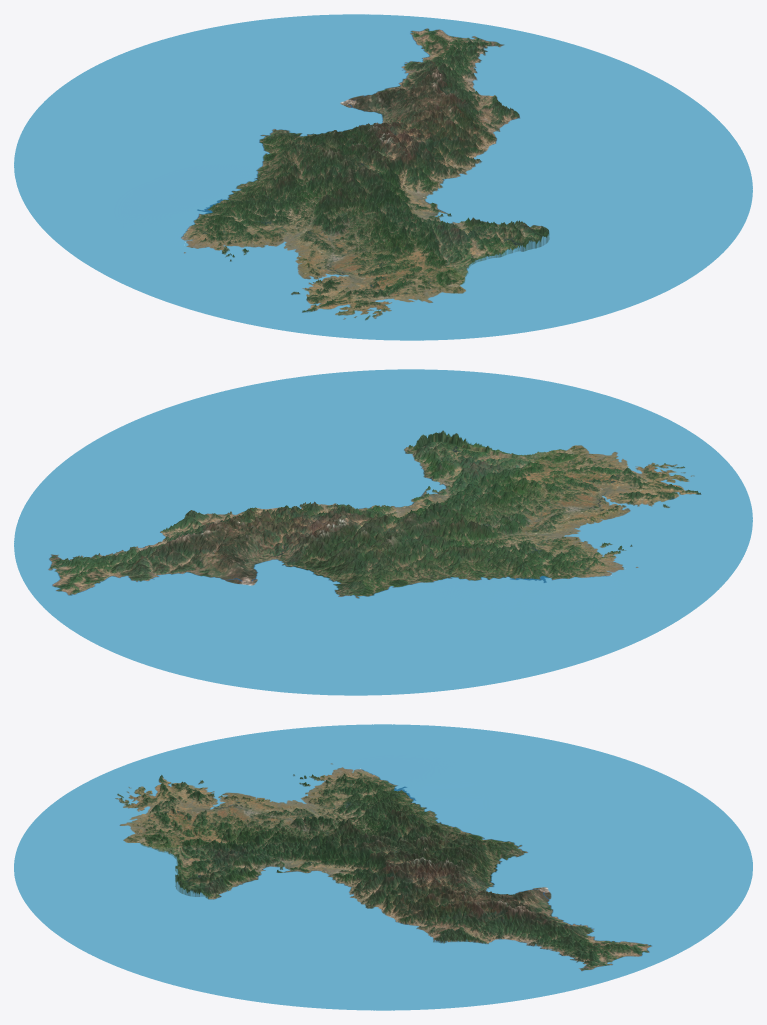
The model's file is PRK-previa-terrain.glb.
The picture shows the model from 3 angles, top to bottom: view 1: azimuth 30°, elevation 25°; view 2: azimuth 150°, elevation 25°; view 3: azimuth 270°, elevation 25°; orthographic projection. The views are drawn at different scales.
Visible parts, largest first — view 1: Coreia do Norte; view 2: Coreia do Norte; view 3: Coreia do Norte.
Part boxes in pixels (x1,y1,x2,y2): Coreia do Norte: [14, 14, 752, 340]; Coreia do Norte: [14, 369, 752, 695]; Coreia do Norte: [14, 724, 752, 1010].
Size of the model in its own units: 2.22 by 0.0732 by 2.42.
1 material, 1 textured.
